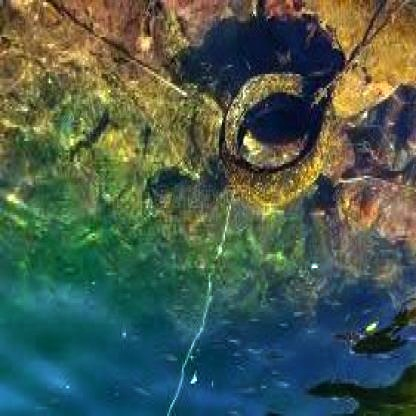tire: (221, 64, 327, 220)
